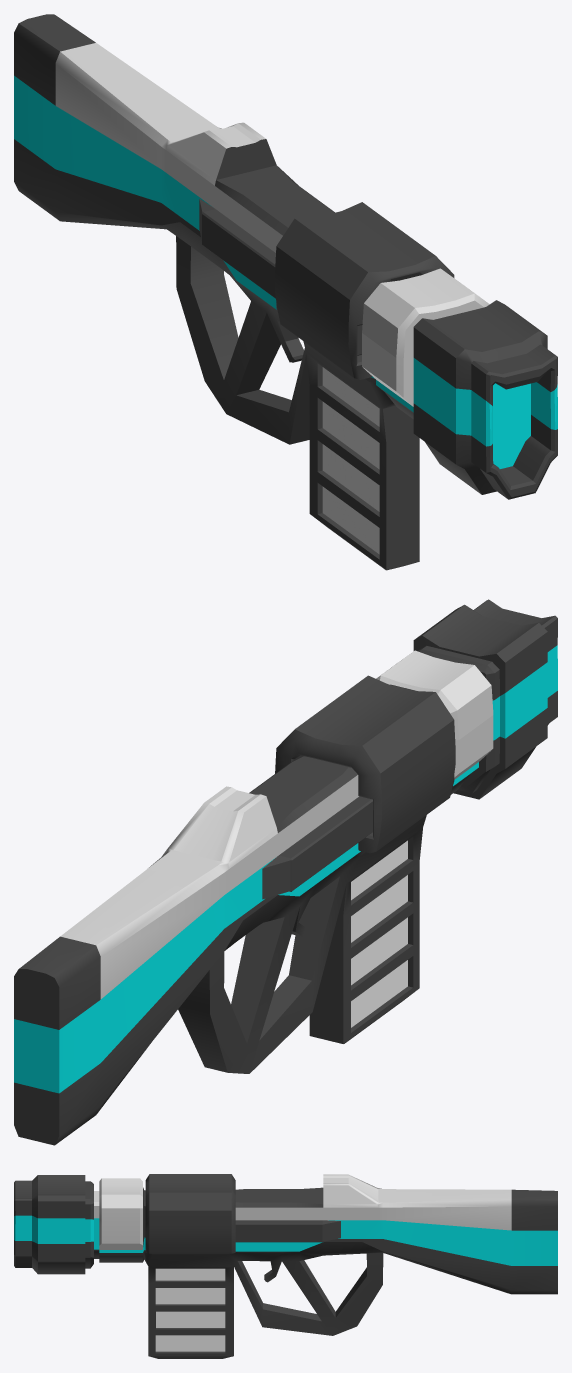
The model's file is Gun.fbx.
3 renders of one model, top to bottom at view 1: azimuth 30°, elevation 25°; view 2: azimuth 150°, elevation 25°; view 3: azimuth 270°, elevation 25°, orthographic. The views are drawn at different scales.
Visible parts, largest first — view 1: polySurface1, polySurface2; view 2: polySurface1, polySurface2; view 3: polySurface1, polySurface2.
Part boxes in pixels (x1,y1,x2,y2): polySurface1: [14, 14, 557, 570]; polySurface2: [275, 202, 454, 379]; polySurface1: [14, 599, 557, 1145]; polySurface2: [275, 675, 455, 853]; polySurface1: [14, 1174, 557, 1358]; polySurface2: [145, 1174, 235, 1253].
Size of the model in its own units: 104 by 293 by 817.
